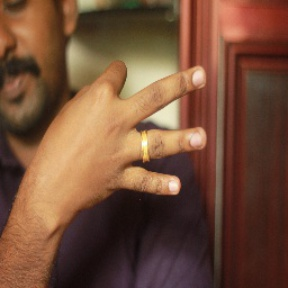K: (38, 59, 211, 204)
